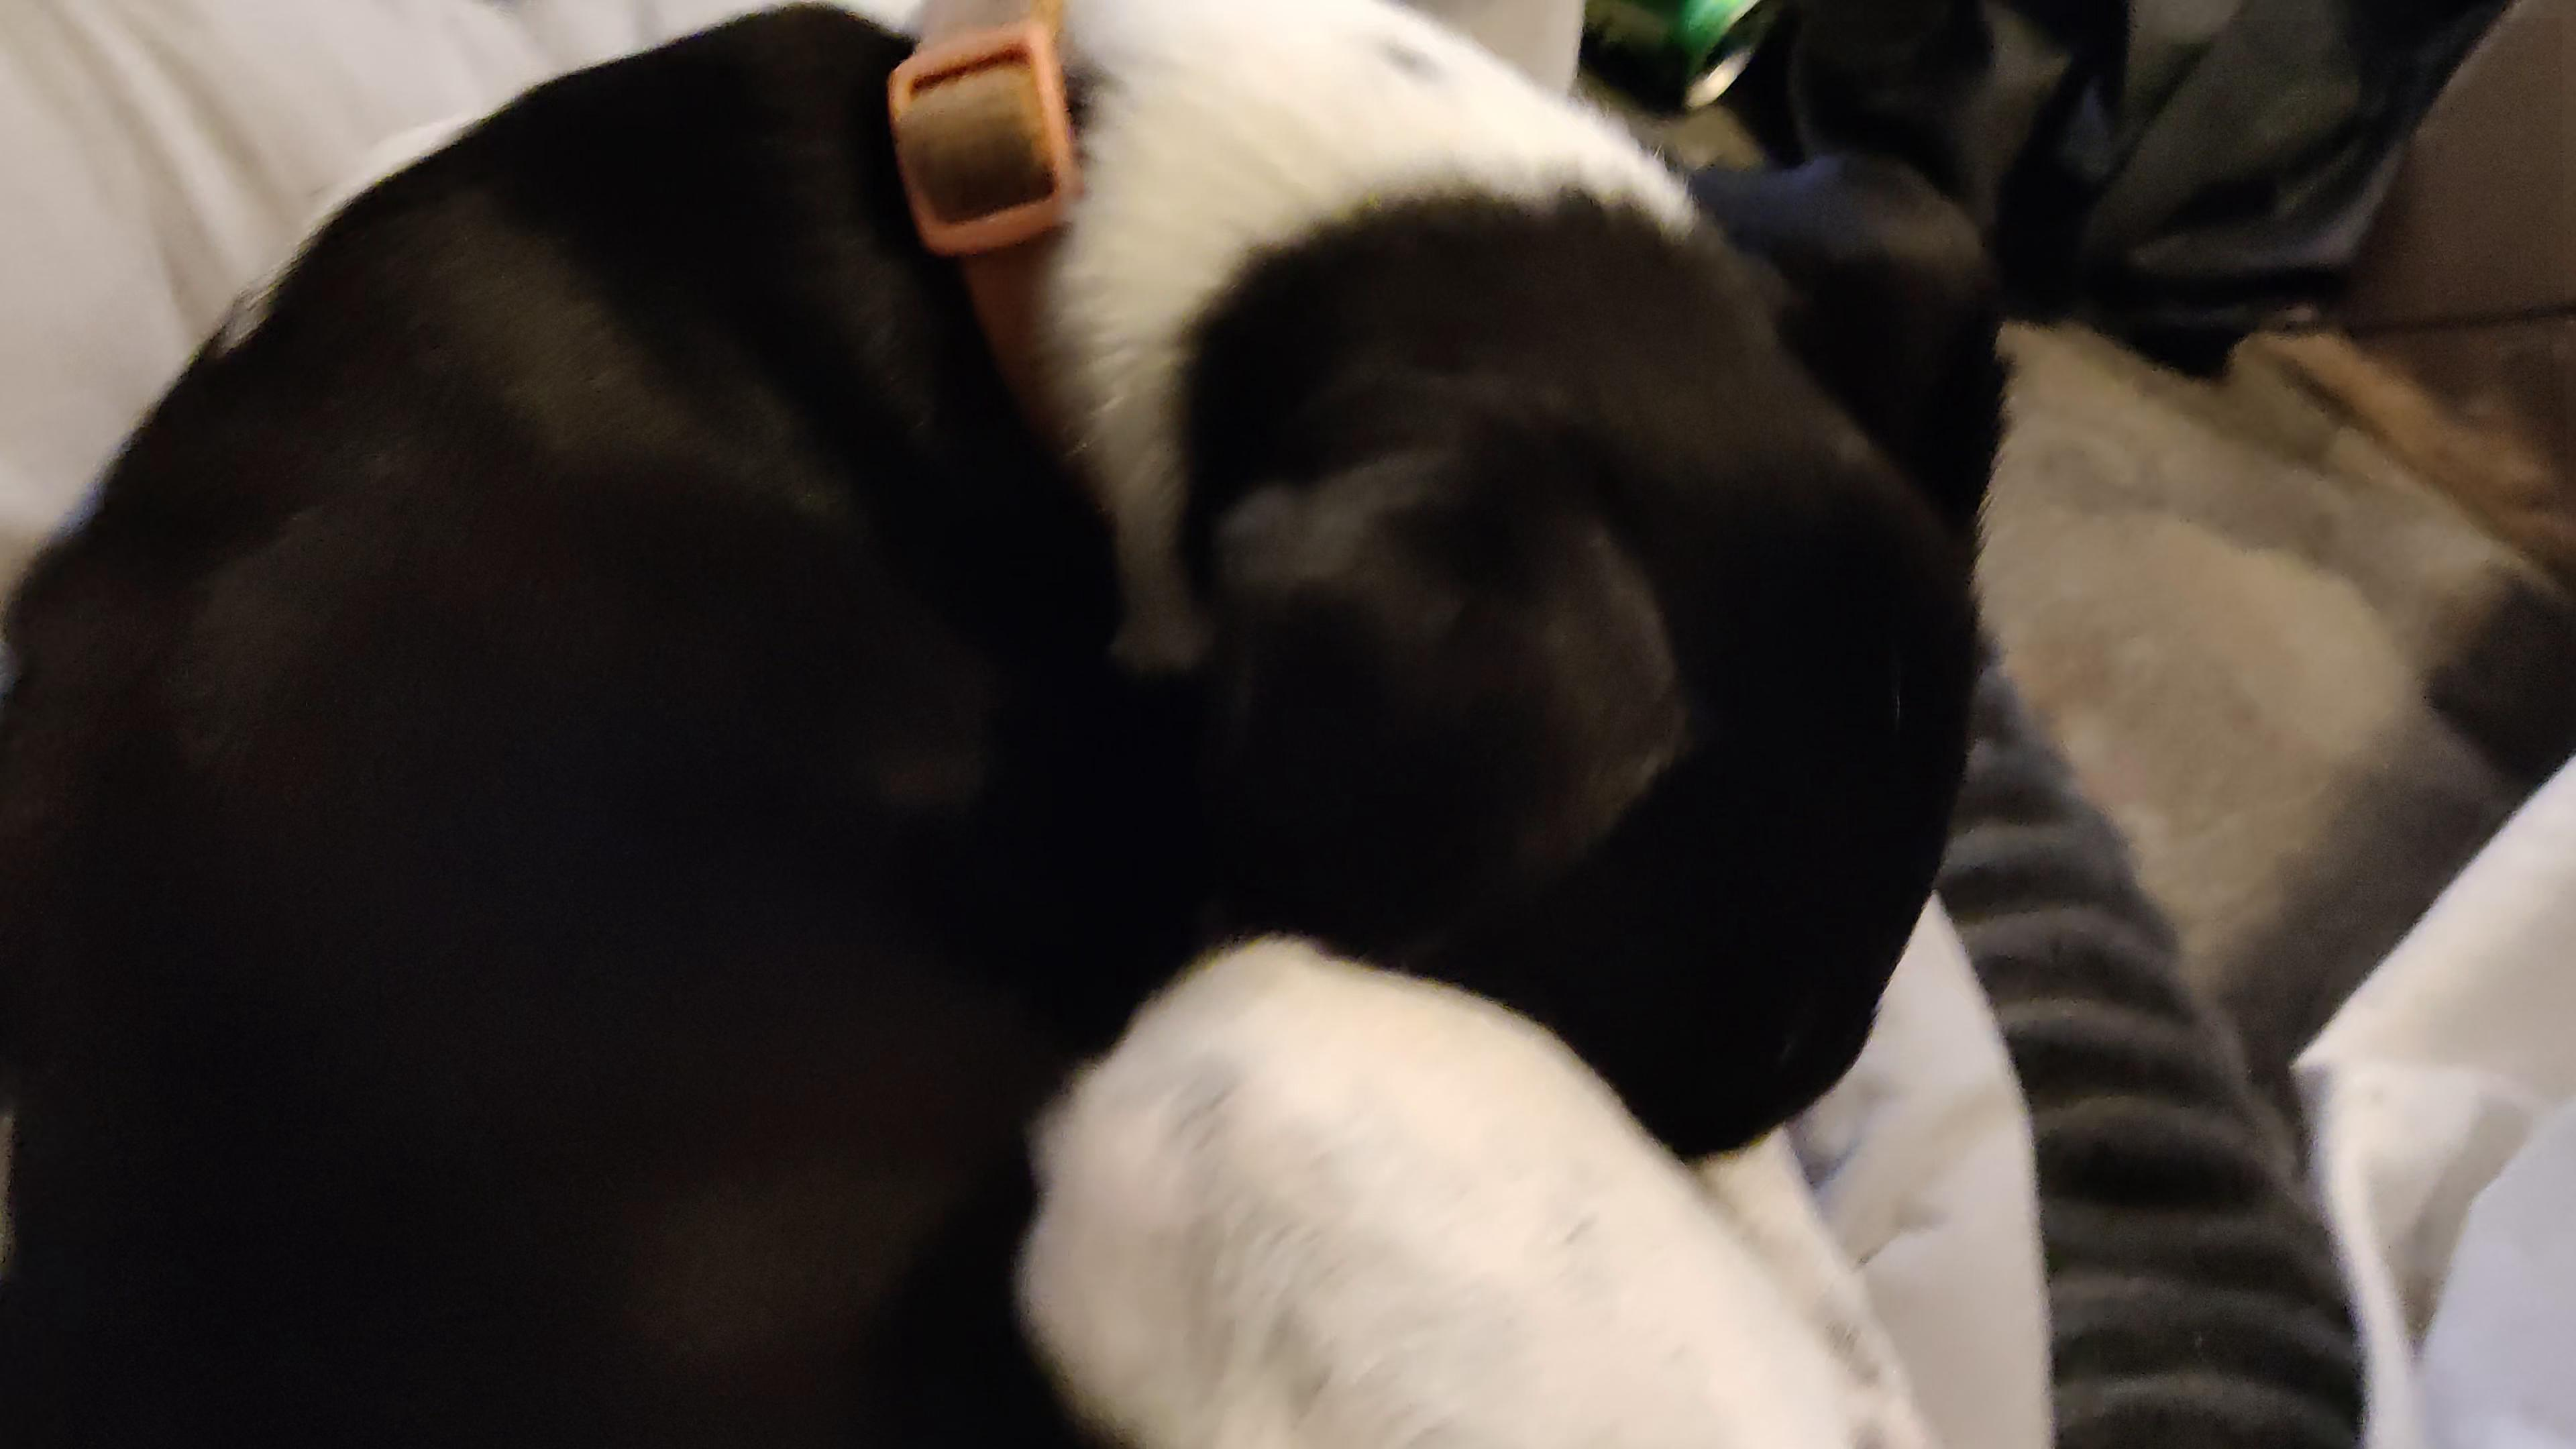Dog: (0, 0, 2066, 1449)
